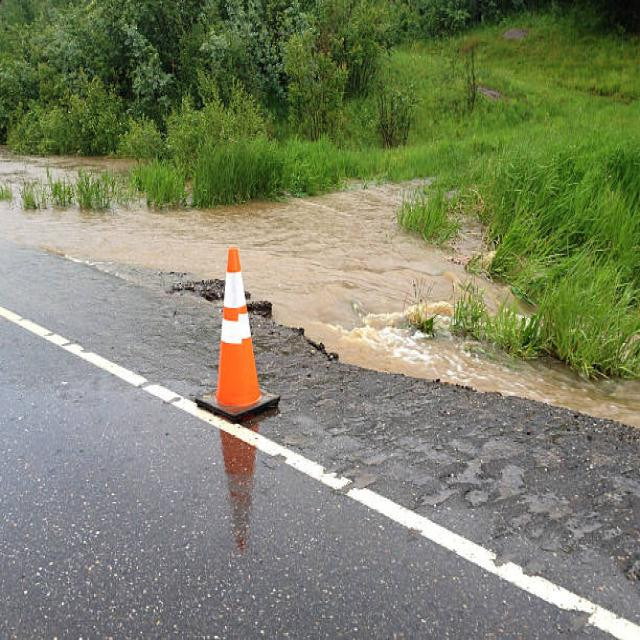Traffic Cone: (183, 230, 292, 441)
